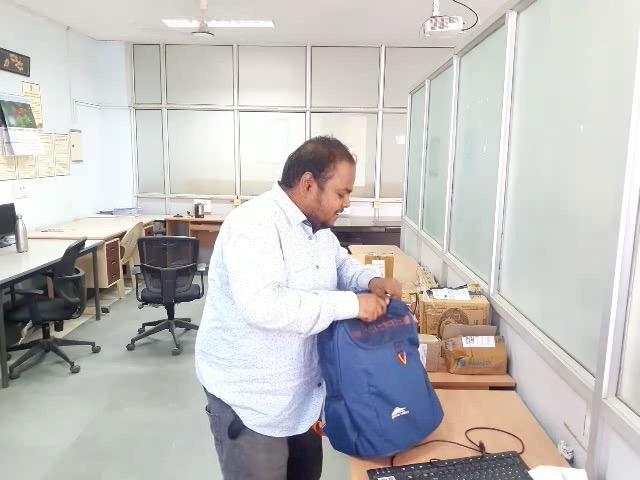shoplifting: (141, 233, 486, 458)
